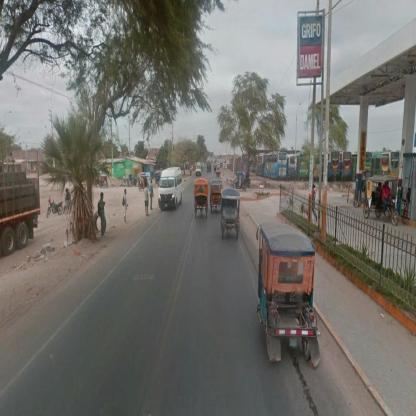Moto: (47, 199, 63, 217)
Peaton: (99, 195, 107, 239), (312, 180, 317, 218), (124, 189, 129, 224), (145, 184, 150, 217), (66, 189, 71, 214), (150, 181, 154, 211)
Pista: (1, 203, 291, 416)
Vehiculo: (260, 226, 321, 369), (1, 162, 42, 258), (365, 174, 400, 226), (159, 167, 183, 210), (221, 190, 240, 242), (264, 150, 288, 181), (196, 178, 209, 219), (211, 180, 223, 211), (196, 163, 201, 177), (207, 163, 212, 173)
